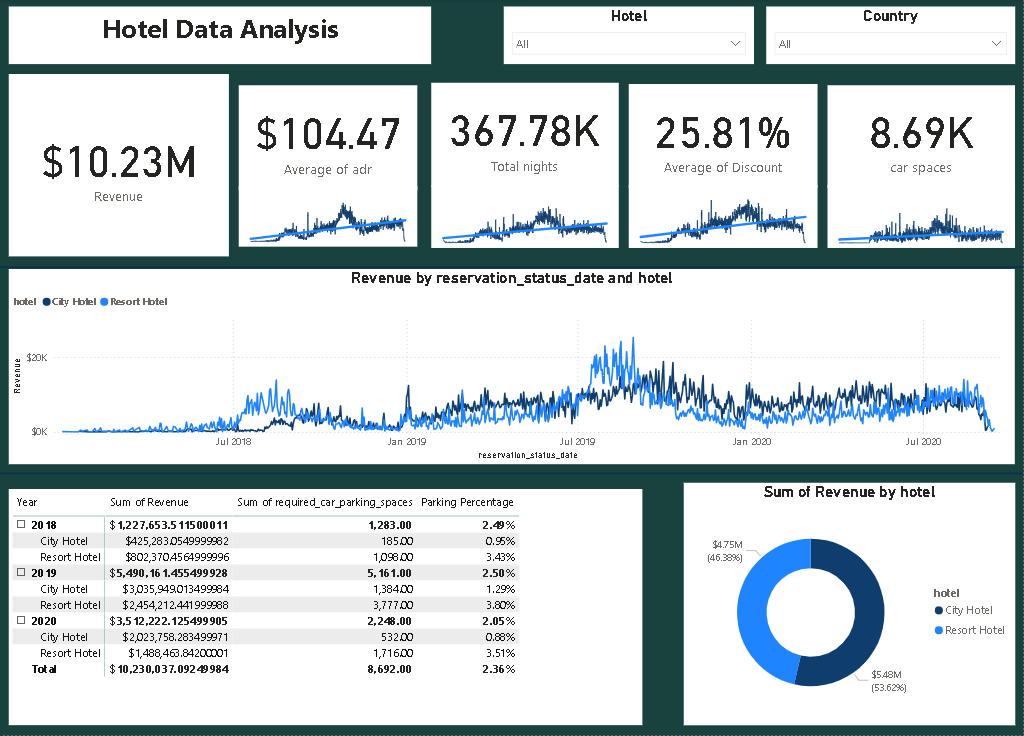

What the dashboard file says about the page in this screenshot:
{"tool":"powerbi","page":{"name":"Page 1","canvas":[1280,920],"ordinal":0},"visuals":[{"type":"shape","box":[0,321.9,1279.7,26.6],"z":0},{"type":"shape","box":[0,581.3,1279.7,23.4],"z":1000},{"type":"card","fields":{"Values":["Sum(Query1.Revenue)"]},"box":[10.9,93.8,275,228.1],"z":2000},{"type":"card","fields":{"Values":["Avg(Query1.adr)"]},"box":[298.4,107.8,223.4,131.3],"z":3000},{"type":"card","fields":{"Values":["Query1.Total nights"]},"box":[539.1,104.7,234.4,129.7],"z":4000},{"type":"card","fields":{"Values":["Avg(Query1.Discount)"]},"box":[785.9,106.3,235.9,129.7],"z":5000},{"type":"lineChart","fields":{"Y":["Sum(Query1.Revenue)"],"Category":["Query1.reservation_status_date"],"Series":["Query1.hotel"]},"box":[21.9,337.5,1246.9,243.8],"z":6000},{"type":"slicer","title":"Country","fields":{"Values":["Query1.country"]},"box":[957.8,9.4,310.9,71.9],"z":7000},{"type":"slicer","title":"Hotel","fields":{"Values":["Query1.hotel"]},"box":[629.7,9.4,312.5,71.9],"z":8000},{"type":"lineChart","fields":{"Category":["Query1.reservation_status_date"],"Y":["Sum(Query1.adr)"]},"box":[298.4,234.4,223.4,75],"z":9000},{"type":"lineChart","fields":{"Category":["Query1.reservation_status_date"],"Y":["Query1.Total nights"]},"box":[539.1,232.8,234.4,78.1],"z":10000},{"type":"lineChart","fields":{"Category":["Query1.reservation_status_date"],"Y":["Sum(Query1.Discount)"]},"box":[785.9,232.8,235.9,78.1],"z":11000},{"type":"card","fields":{"Values":["Sum(Query1.required_car_parking_spaces)"]},"box":[1034.4,107.8,234.4,128.1],"z":12000},{"type":"donutChart","fields":{"Category":["Query1.hotel"],"Y":["Sum(Query1.Revenue)"]},"box":[854.7,604.7,414.1,303.1],"z":13000},{"type":"lineChart","fields":{"Category":["Query1.reservation_status_date"],"Y":["Sum(Query1.required_car_parking_spaces)"]},"box":[1034.4,232.8,234.4,78.1],"z":14000},{"type":"pivotTable","fields":{"Rows":["Query1.reservation_status_date.Variation.Date Hierarchy.Year","Query1.hotel"],"Values":["Sum(Query1.Revenue)","Sum(Query1.required_car_parking_spaces)","Query1.Parking Percentage"]},"box":[21.9,612.5,781.3,295.3],"z":15000},{"type":"textbox","box":[10.9,9.4,528.1,71.9],"z":16000}]}

Visuals, with their boxes in screenshot pixels (x1, y1, x2, y2), scaled from the page's 1280x920 canvas onto the 1024x736 screenshot:
shape: x1=0 y1=258 x2=1023 y2=279
shape: x1=0 y1=465 x2=1023 y2=484
card - Sum(Query1.Revenue): x1=9 y1=75 x2=229 y2=258
card - Avg(Query1.adr): x1=239 y1=86 x2=417 y2=191
card - Query1.Total nights: x1=431 y1=84 x2=619 y2=188
card - Avg(Query1.Discount): x1=629 y1=85 x2=817 y2=189
lineChart - Sum(Query1.Revenue) x Query1.reservation_status_date: x1=18 y1=270 x2=1015 y2=465
"Country" slicer: x1=766 y1=8 x2=1015 y2=65
"Hotel" slicer: x1=504 y1=8 x2=754 y2=65
lineChart - Query1.reservation_status_date x Sum(Query1.adr): x1=239 y1=188 x2=417 y2=248
lineChart - Query1.reservation_status_date x Query1.Total nights: x1=431 y1=186 x2=619 y2=249
lineChart - Query1.reservation_status_date x Sum(Query1.Discount): x1=629 y1=186 x2=817 y2=249
card - Sum(Query1.required_car_parking_spaces): x1=828 y1=86 x2=1015 y2=189
donutChart - Query1.hotel x Sum(Query1.Revenue): x1=684 y1=484 x2=1015 y2=726
lineChart - Query1.reservation_status_date x Sum(Query1.required_car_parking_spaces): x1=828 y1=186 x2=1015 y2=249
pivotTable - Query1.reservation_status_date.Variation.Date Hierarchy.Year x Query1.hotel: x1=18 y1=490 x2=643 y2=726
textbox: x1=9 y1=8 x2=431 y2=65
